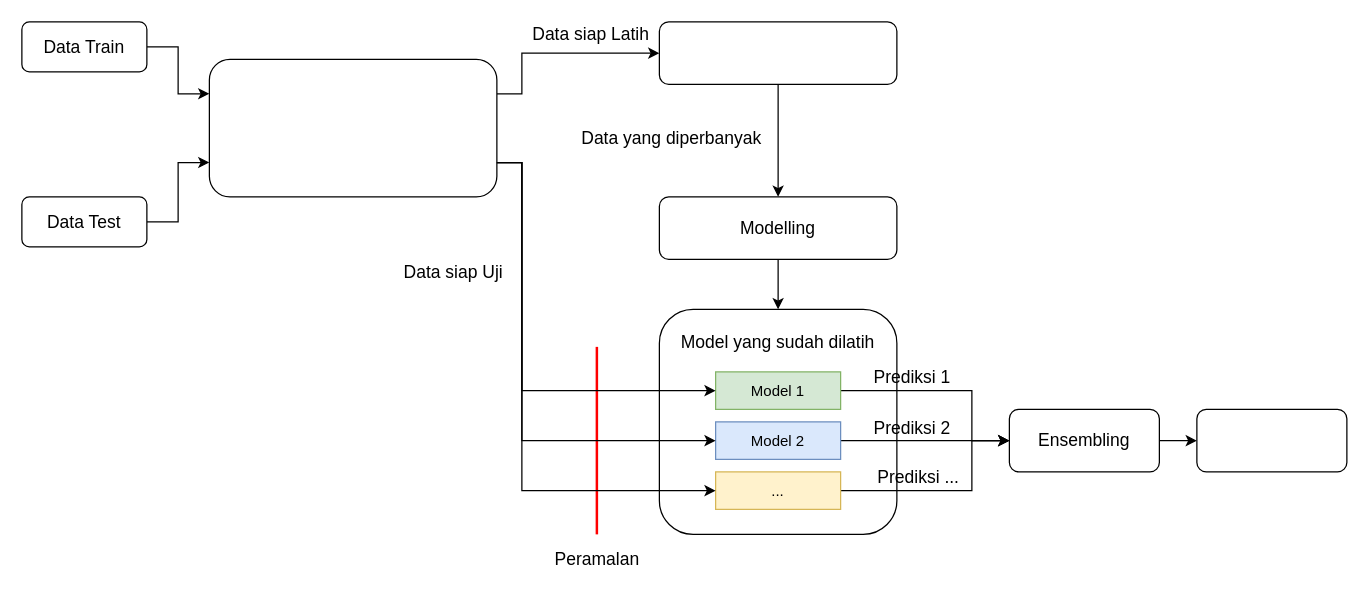
Some shapes in this 1369 by 594 pixel diagram are drawn without their labels. The shapes that lost their labels are listed below. From the top down, each one's centre as x and y in pixels, then its label:
[777,52]: Augmentasi
[352,127]: Data Preprocessing
[1271,440]: Hasil
